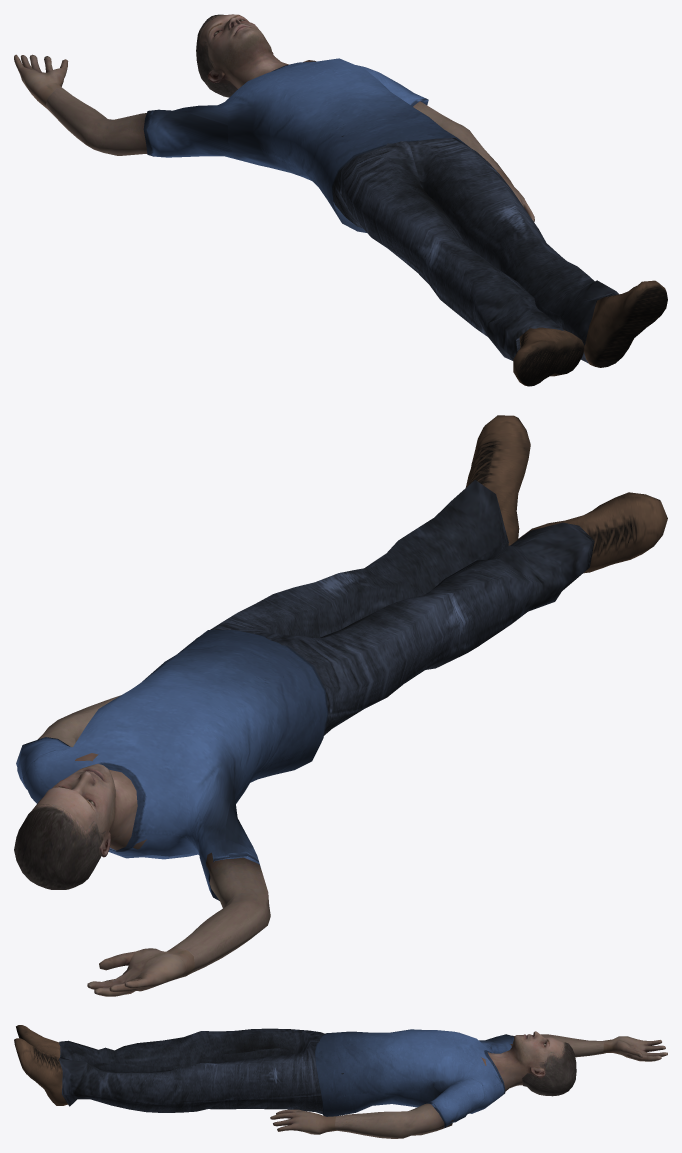
File: malePD12.fbx
The picture shows the model from 3 angles, top to bottom: view 1: azimuth 30°, elevation 25°; view 2: azimuth 150°, elevation 25°; view 3: azimuth 270°, elevation 25°; orthographic projection. The views are drawn at different scales.
Visible parts, largest first — view 1: malePD12; view 2: malePD12; view 3: malePD12.
Part boxes in pixels (box(x1,y1,x2,y2)): malePD12: box(14, 14, 667, 386); malePD12: box(14, 415, 667, 996); malePD12: box(14, 1025, 667, 1138).
Size of the model in its own units: 1.55 by 0.5905 by 4.56.
Materials: 1 (1 with a texture image).
